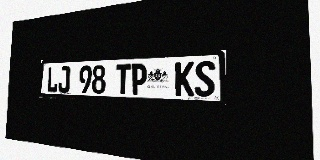8: (92, 65, 106, 94)
9: (79, 65, 92, 93)
J: (58, 66, 70, 93)
K: (175, 61, 194, 96)
L: (47, 66, 59, 93)
P: (131, 63, 147, 95)
S: (195, 61, 215, 97)
T: (115, 64, 131, 94)
